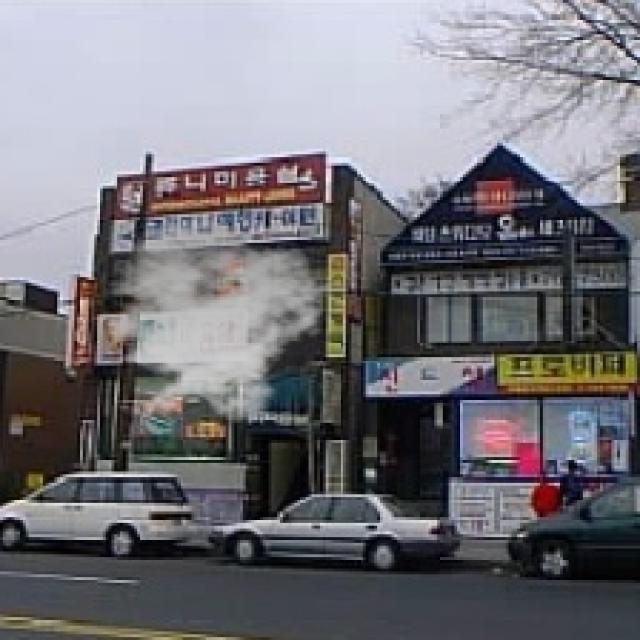Smoke: (77, 217, 334, 426)
